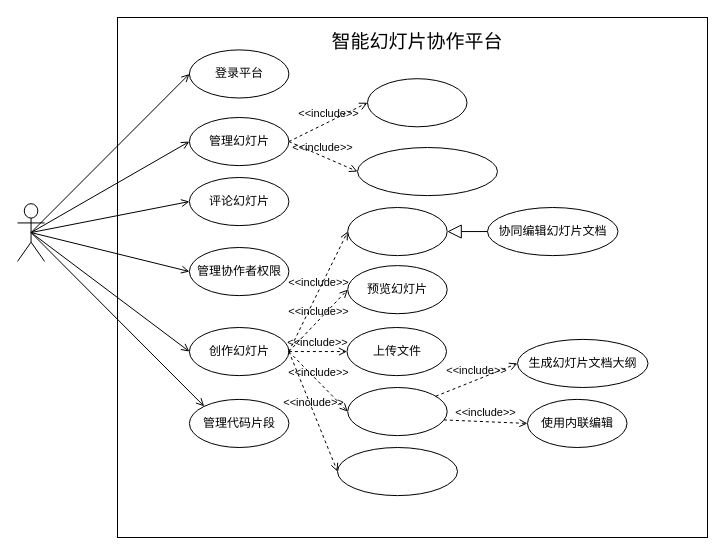
Image size: 725x555. Some labels were removed from this diagram. The shapes that lost their labels are listed below. From the top down, each one's centre as x and y in pixels, then its label:
pixel 416 102: 管理幻灯片空间
pixel 427 171: 管理空间内的幻灯片
pixel 30 232: 用户
pixel 397 231: 编辑幻灯片文档
pixel 397 411: 使用AI辅助创作
pixel 397 471: 管理幻灯片文档版本
